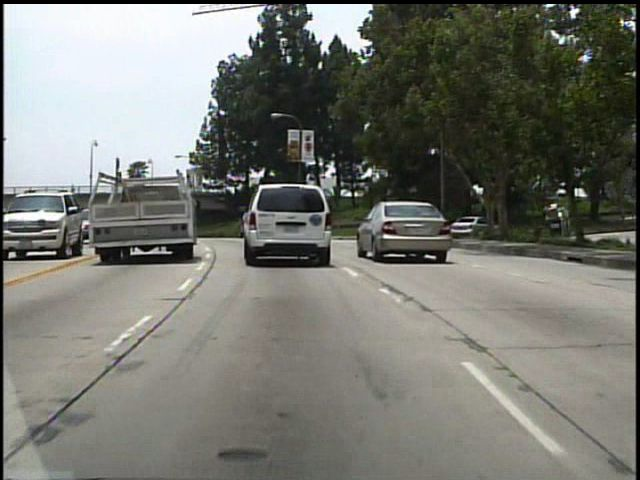person: (68, 180, 79, 200)
